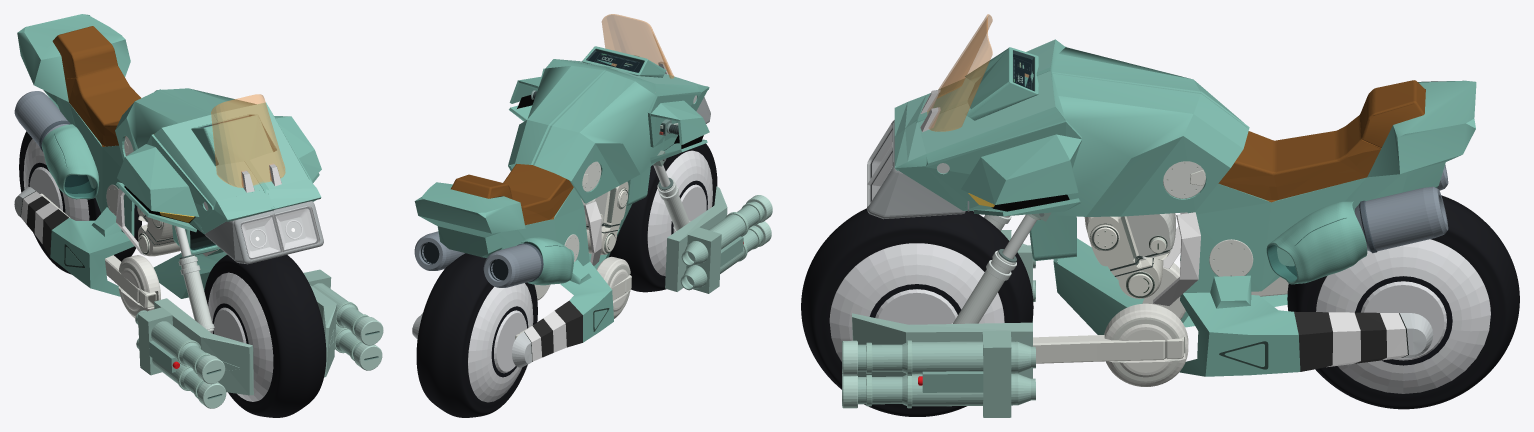
The model's file is cyclone-vr052f.glb.
3 renders of one model, left to right at view 1: azimuth 30°, elevation 25°; view 2: azimuth 150°, elevation 25°; view 3: azimuth 270°, elevation 25°, orthographic. The views are drawn at different scales.
Parts seen in each view (by area): view 1: Front_Tire_Rubber, chest-relieve3 (×6), rear_sit + rear_sit, caballero-right, Pieza 30, tapa-up + tapa-up + tapa-up + tapa-up (×2), tanque-nafta (×3), Arm_Guard_Base (×2), rear1, Front_Rim_Outer, Carcasa aerodinámica del escape · izquierda · boca hueca, Headlight_Housing (×2) (+27 smaller); view 2: tanque-nafta (×3), Rear_Tire_Rubber, caballero-right, rear1, Rear_Rim_Outer, rear_sit + rear_sit, Front_Tire_Rubber, Front_Rim_Outer, Silenciador metálico · left (×2), Pieza 9, Pieza 30, Arm_Guard_Base (+23 smaller); view 3: tanque-nafta (×3), caballero-right, Front_Tire_Rubber, Rear_Rim_Outer, rear_sit + rear_sit, Rear_Tire_Rubber, Pieza 9, Front_Rim_Outer, rear1, tapa-up + tapa-up + tapa-up + tapa-up, Motor central Cyclone · carcasa y tapas integradas, Carcasa aerodinámica del escape · izquierda · boca hueca (+29 smaller).
Boxes of the visible parts, left/top/right/bottom form: Front_Tire_Rubber: left=204, top=254, right=326, bottom=417; chest-relieve3 (×6): left=162, top=102, right=321, bottom=221; rear_sit + rear_sit: left=52, top=26, right=140, bottom=146; caballero-right: left=14, top=187, right=134, bottom=296; Pieza 30: left=211, top=94, right=285, bottom=187; tapa-up + tapa-up + tapa-up + tapa-up (×2): left=117, top=116, right=321, bottom=216; tanque-nafta (×3): left=115, top=88, right=256, bottom=160; Arm_Guard_Base (×2): left=154, top=285, right=336, bottom=395; rear1: left=17, top=14, right=130, bottom=101; Front_Rim_Outer: left=208, top=272, right=273, bottom=401; Carcasa aerodinámica del escape · izquierda · boca hueca: left=41, top=124, right=99, bottom=199; Headlight_Housing (×2): left=204, top=201, right=323, bottom=264; tanque-nafta (×3): left=508, top=65, right=664, bottom=203; Rear_Tire_Rubber: left=416, top=253, right=537, bottom=417; caballero-right: left=512, top=261, right=613, bottom=367; rear1: left=414, top=182, right=525, bottom=237; Rear_Rim_Outer: left=468, top=283, right=533, bottom=402; rear_sit + rear_sit: left=451, top=164, right=573, bottom=225; Front_Tire_Rubber: left=609, top=143, right=717, bottom=292; Front_Rim_Outer: left=647, top=150, right=712, bottom=276; Silenciador metálico · left (×2): left=414, top=231, right=541, bottom=287; Pieza 9: left=498, top=187, right=589, bottom=265; Pieza 30: left=601, top=14, right=674, bottom=78; Arm_Guard_Base: left=665, top=186, right=727, bottom=291; tanque-nafta (×3): left=1050, top=47, right=1249, bottom=216; caballero-right: left=1179, top=292, right=1433, bottom=376; Front_Tire_Rubber: left=801, top=208, right=1033, bottom=416; Rear_Rim_Outer: left=1316, top=239, right=1490, bottom=393; rear_sit + rear_sit: left=1218, top=80, right=1425, bottom=202; Rear_Tire_Rubber: left=1287, top=195, right=1519, bottom=409; Pieza 9: left=1184, top=172, right=1407, bottom=292; Front_Rim_Outer: left=829, top=243, right=1004, bottom=361; rear1: left=1367, top=80, right=1476, bottom=177; tapa-up + tapa-up + tapa-up + tapa-up: left=961, top=134, right=1081, bottom=204; Motor central Cyclone · carcasa y tapas integradas: left=1084, top=213, right=1175, bottom=298; Carcasa aerodinámica del escape · izquierda · boca hueca: left=1266, top=201, right=1367, bottom=284.
Bounding box in the file's own units: 0.8993 × 1.38 × 2.32.
188 materials, 2 textured.
